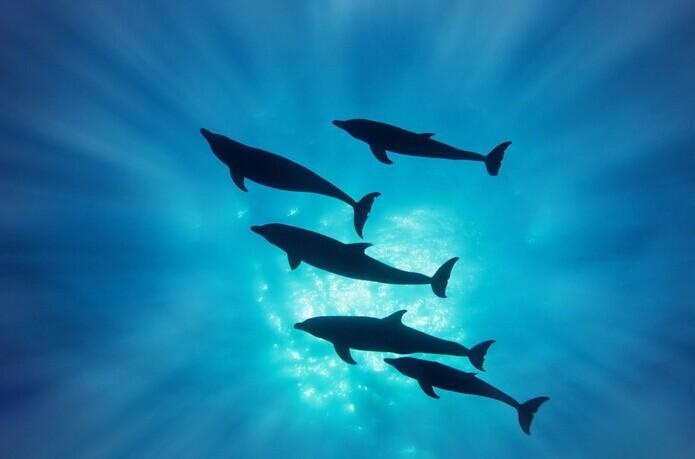fish: (198, 126, 381, 242), (249, 223, 458, 302), (380, 358, 550, 434), (294, 309, 495, 372), (330, 114, 510, 175)
